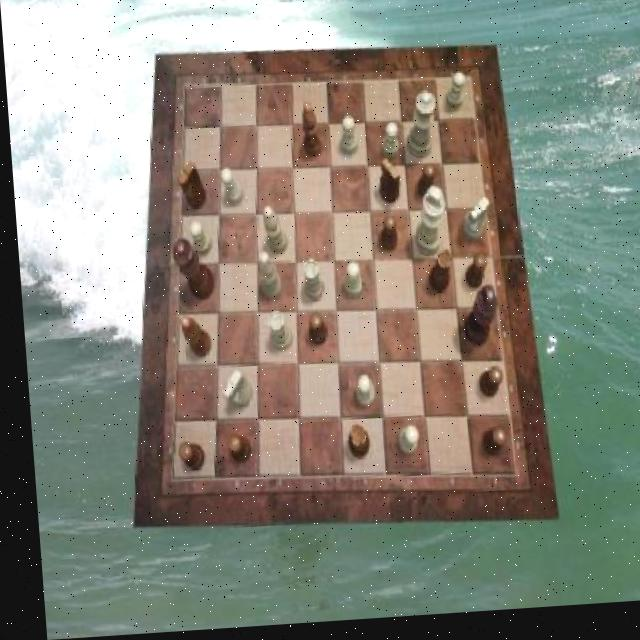bishop: (174, 318, 204, 362), (299, 106, 320, 161)
black-bishop: (455, 292, 494, 354)
black-king: (173, 164, 202, 213), (373, 163, 398, 210)
black-knight: (459, 260, 483, 296), (411, 167, 433, 206), (169, 445, 197, 474), (472, 372, 497, 404), (473, 434, 499, 463), (375, 220, 394, 257), (219, 438, 243, 467), (303, 316, 322, 350)
black-pawn: (167, 239, 211, 304)
black-queen: (422, 254, 449, 298), (340, 427, 363, 463)
black-rook: (258, 209, 284, 258), (253, 256, 277, 304)
white-bishop: (408, 191, 444, 264)
white-king: (456, 203, 488, 247), (215, 372, 246, 411)
white-knight: (218, 170, 241, 208), (443, 78, 465, 116), (185, 222, 208, 258), (336, 120, 355, 161), (339, 267, 358, 304), (377, 128, 397, 163), (350, 379, 370, 412), (390, 431, 412, 459)
white-pawn: (401, 98, 437, 165)
white-queen: (262, 314, 287, 355), (296, 263, 319, 306)
